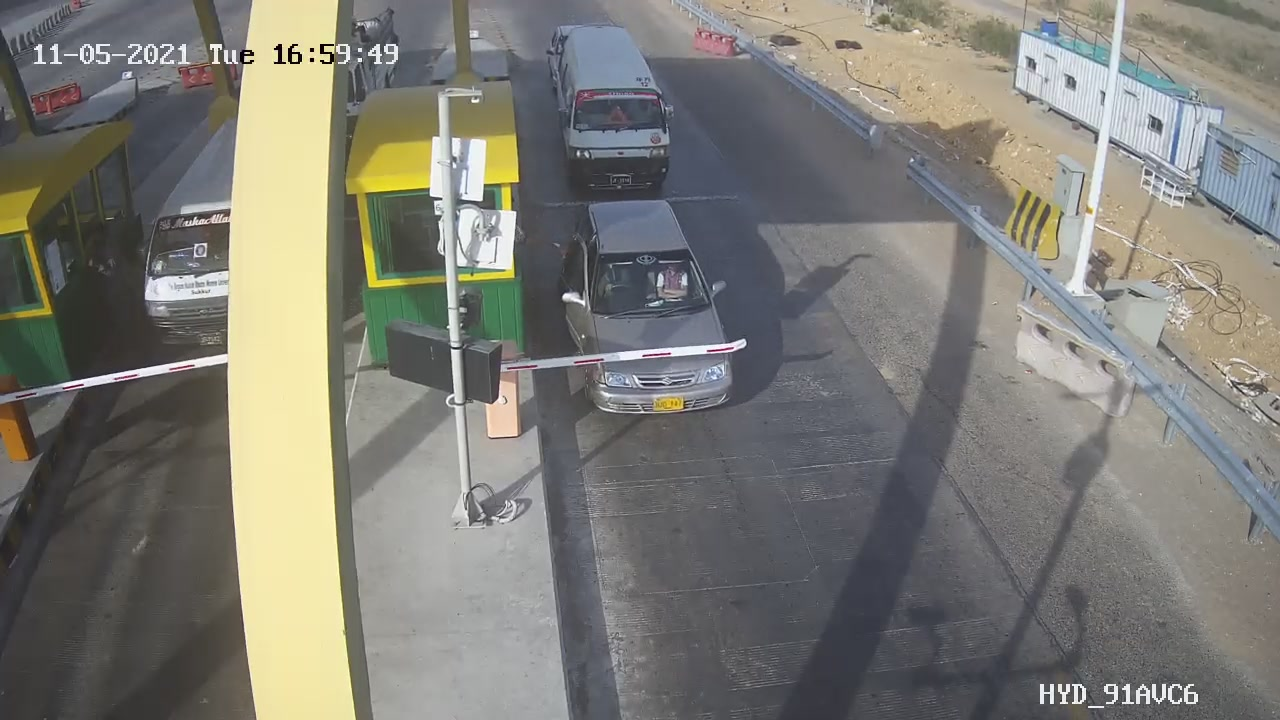F1: (544, 190, 752, 440)
F2: (533, 26, 684, 192)
